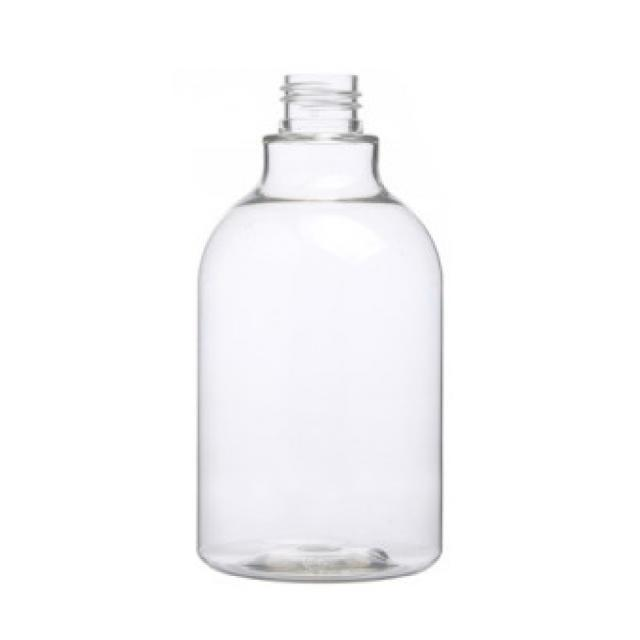plastic bottle: (198, 69, 442, 582)
